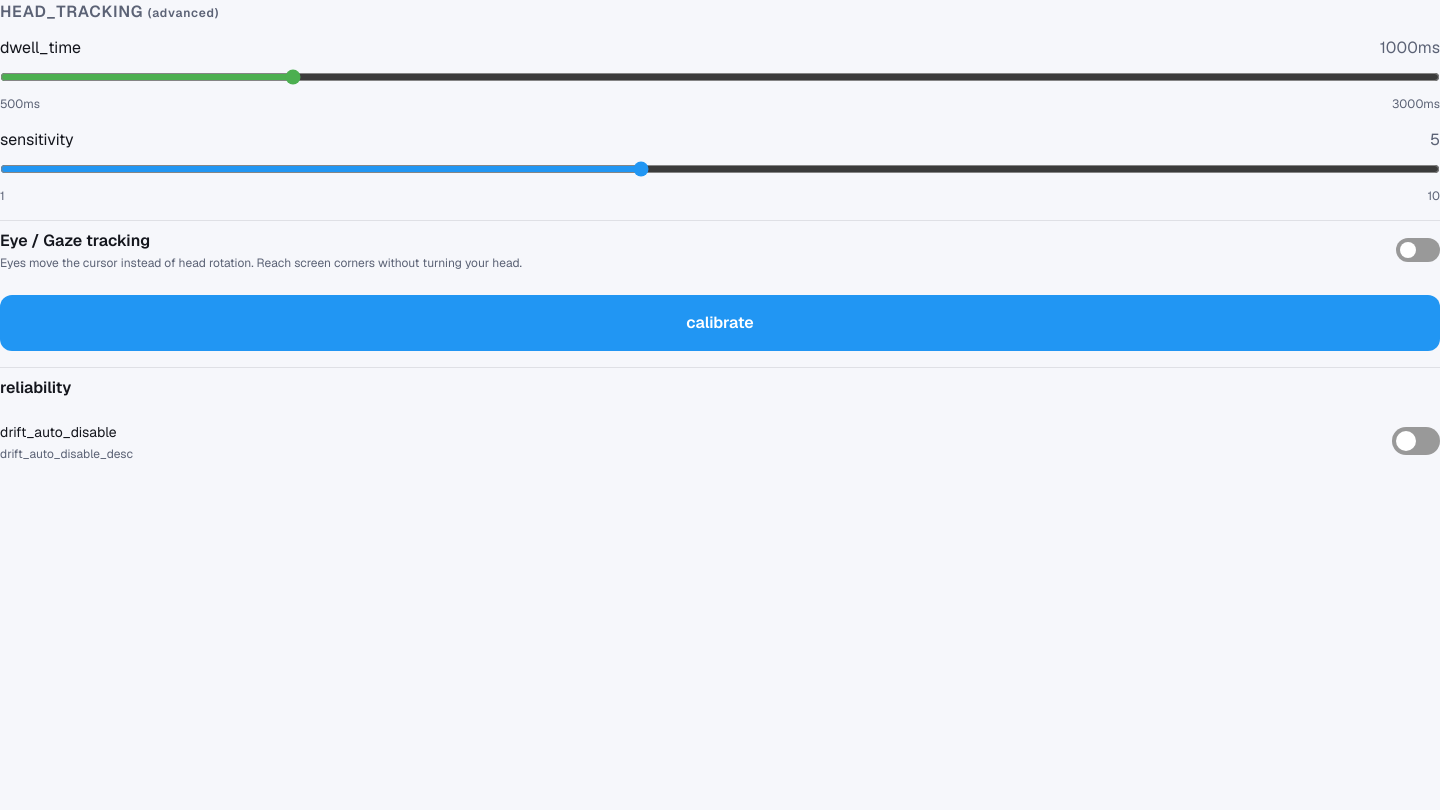
HeadTrackingSettings — calibration flow › clicking calibrate shows calibration overlay
Click the button "calibrate" at (720, 323), box 0,295 -> 1439,351
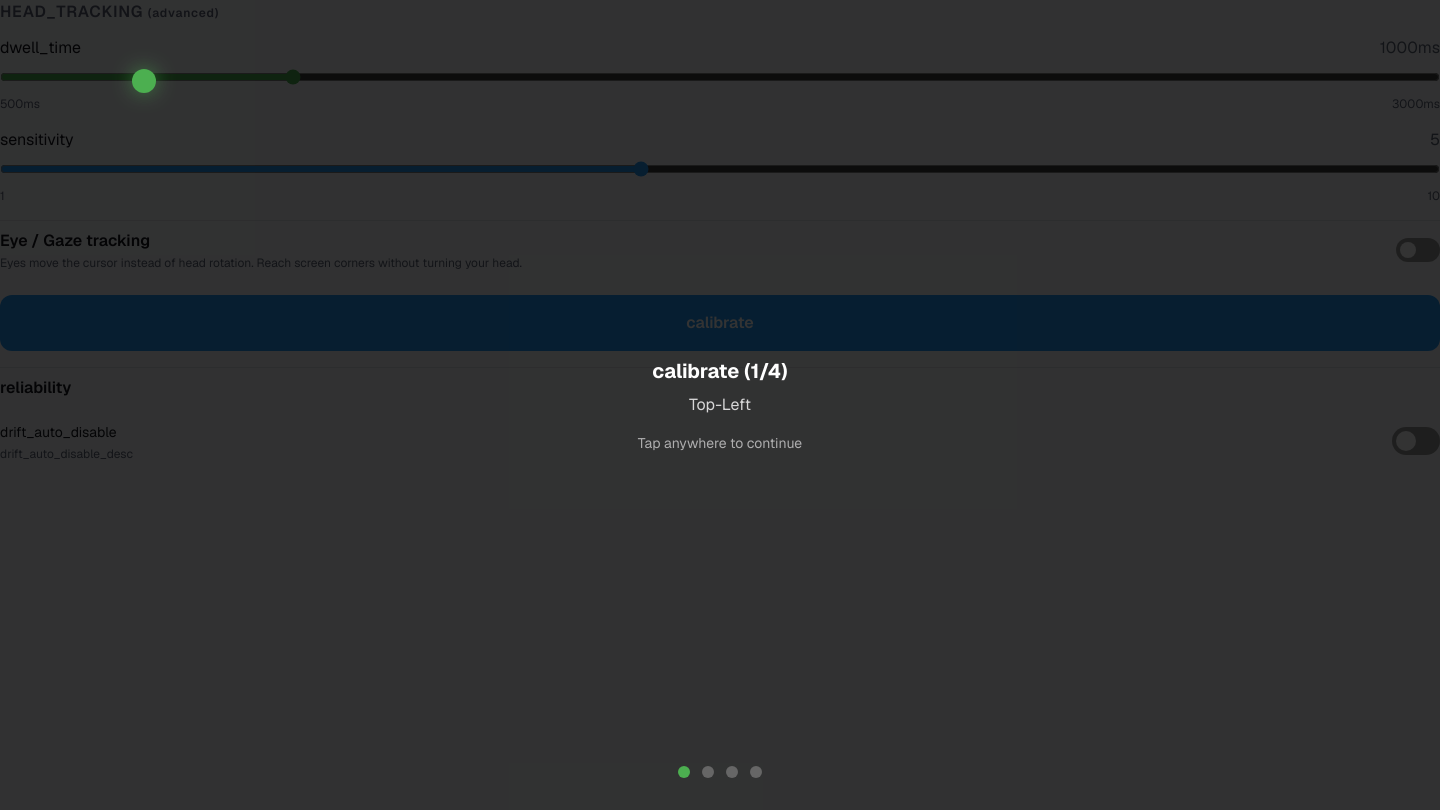
Expected: the text "Tap anywhere to continue" is shown, 638,433 -> 802,453
